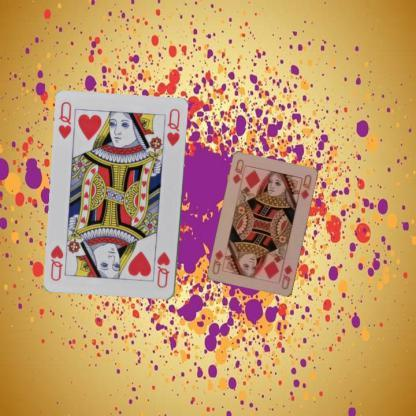Qd: (230, 158, 247, 188), (280, 262, 294, 292)
Qh: (154, 249, 172, 289), (56, 100, 73, 140)
